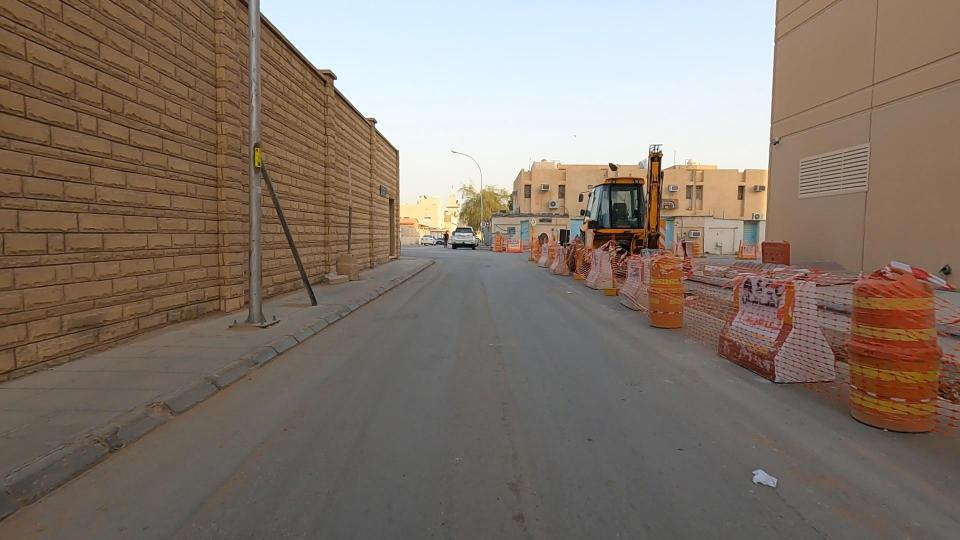CONSTRUCTION_ROAD: (384, 115, 960, 450)
GARBAGE: (684, 424, 845, 534)
